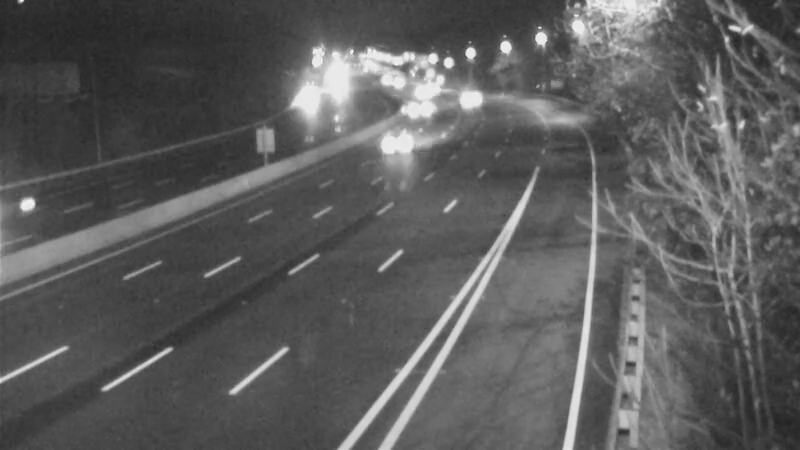vehicle: (1, 167, 67, 247), (398, 67, 448, 117), (439, 72, 489, 122), (394, 85, 444, 135), (375, 119, 425, 169)
